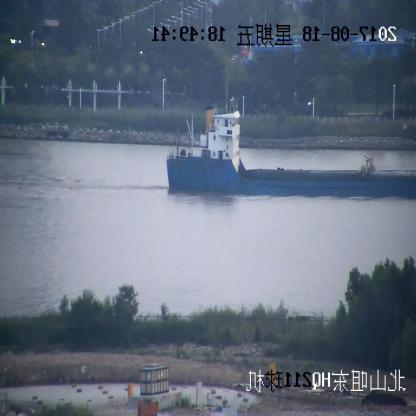Bulk Carrier: (167, 99, 416, 196)
